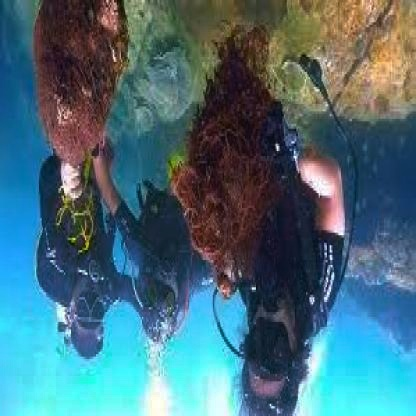net: (177, 34, 278, 268), (29, 2, 131, 168)
